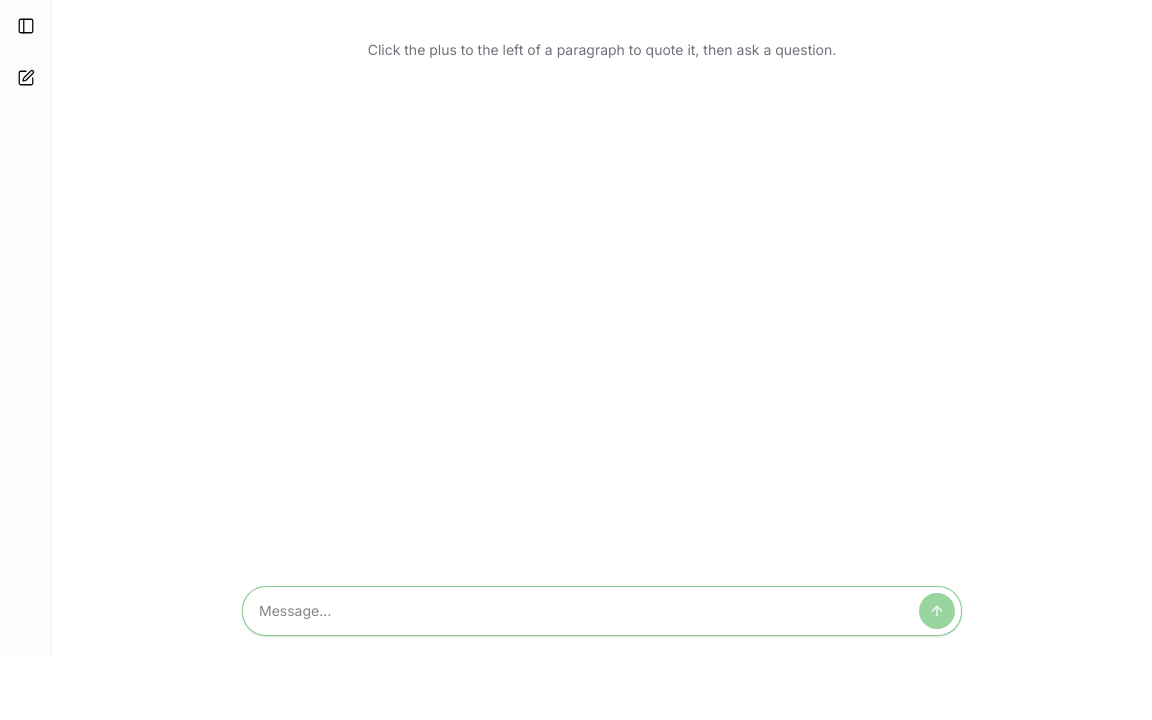
renames a conversation through its menu without changing the active draft
Click the button named "Open sidebar": (26, 26) [6,6,46,46]
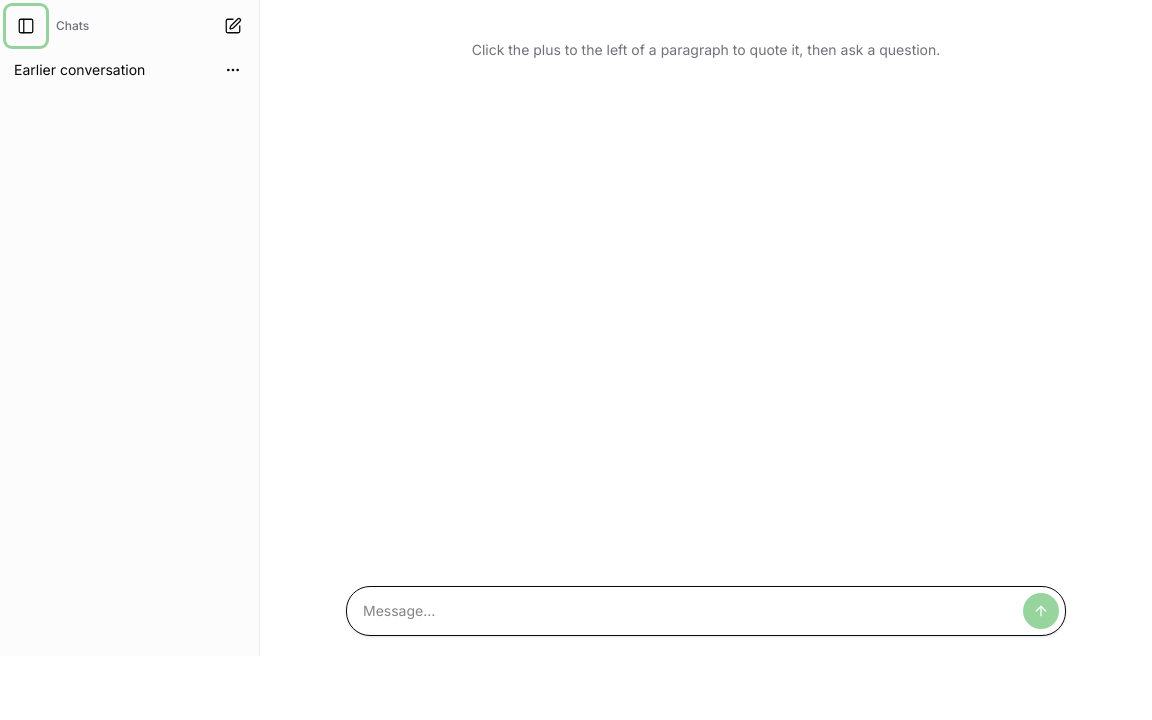
Click the button named "Conversation actions: Earlier conversation": (233, 70) [217,54,249,86]
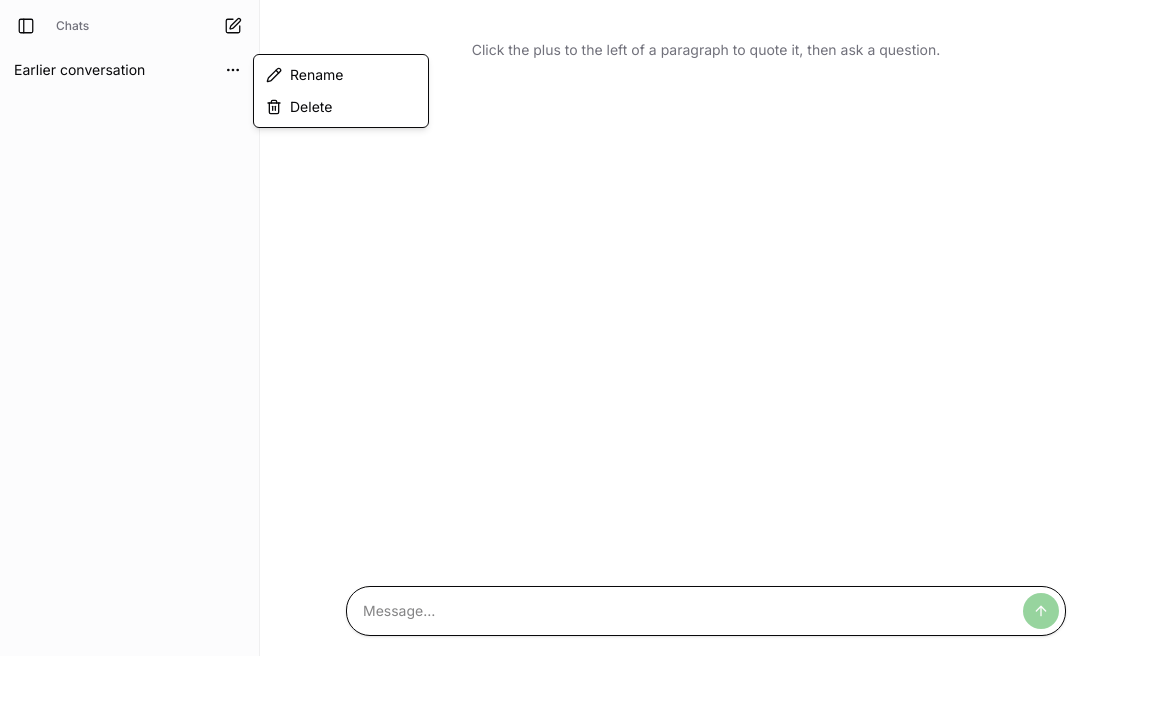
Click the menu item "Rename": (305, 74) [266,66,344,83]
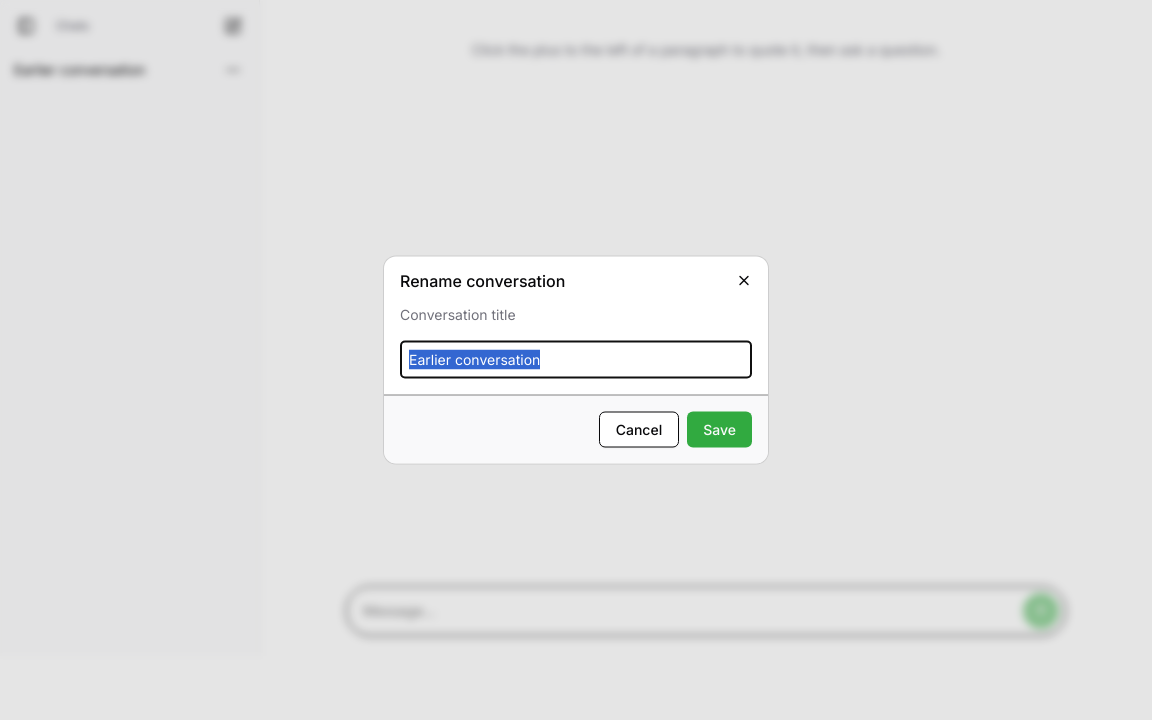
Replace the text in the field named "Conversation title" with "Updated title": (576, 360) [400,340,752,378]
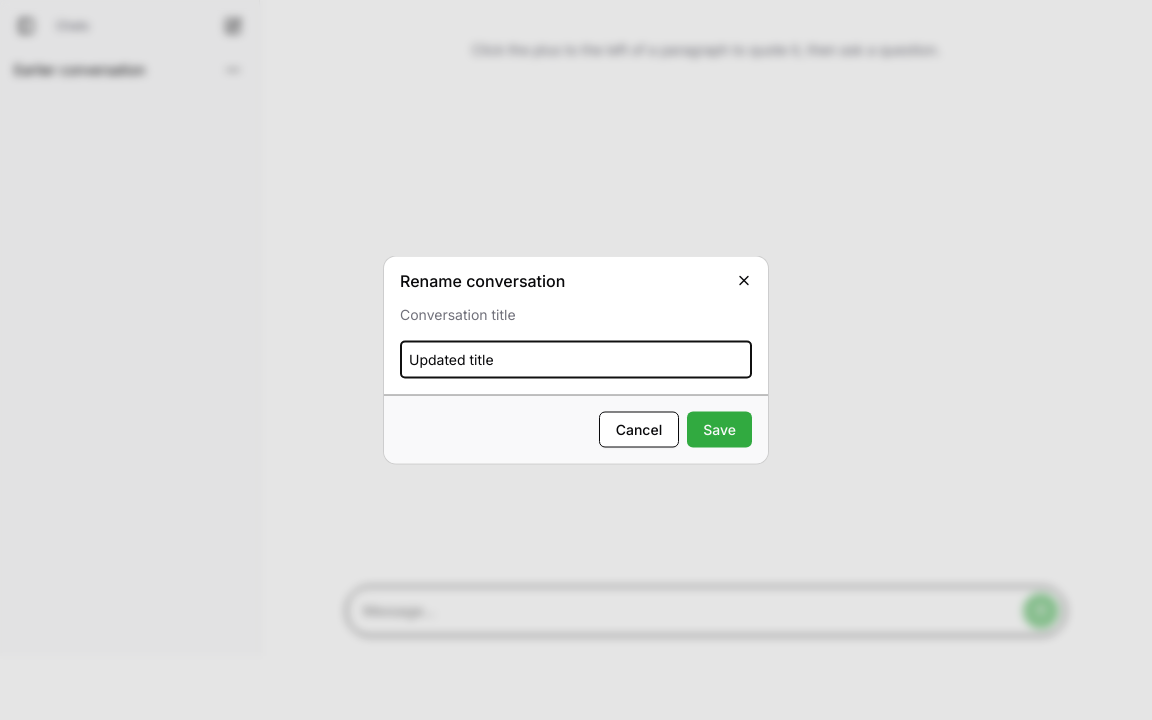
Click the button "Save": (720, 430) [687,412,752,448]
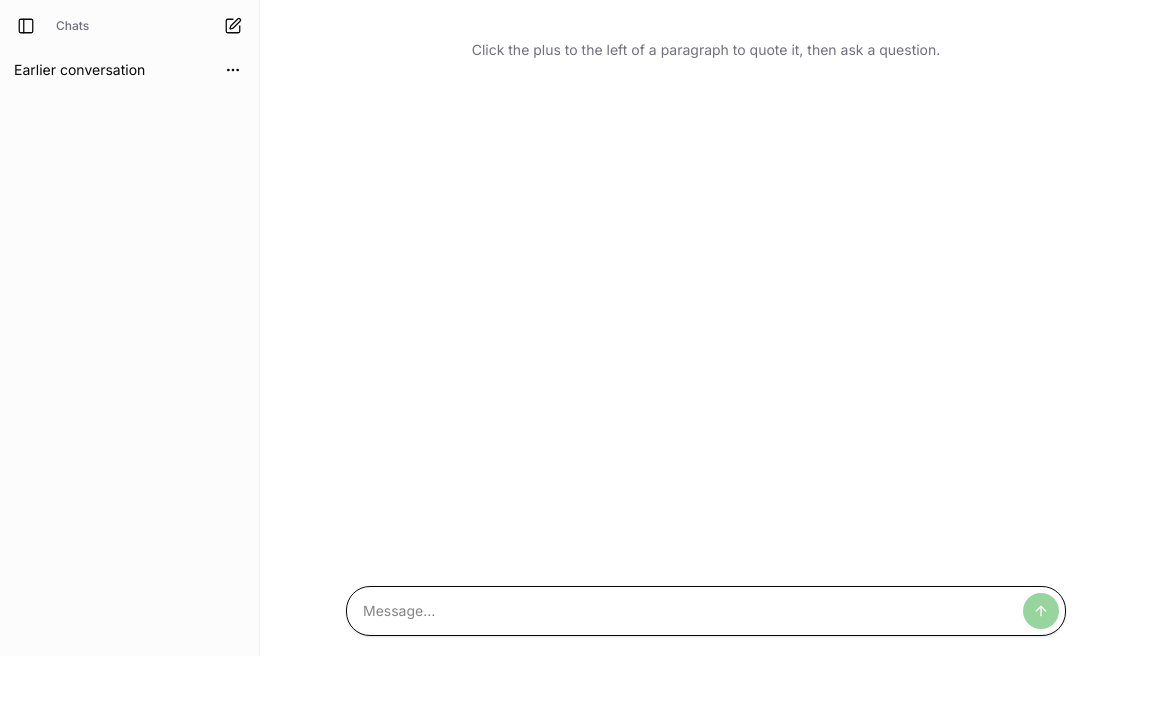
Expected: the text box labelled "Message" is empty, [363,593,1015,629]
Expected: the dialog is gone
